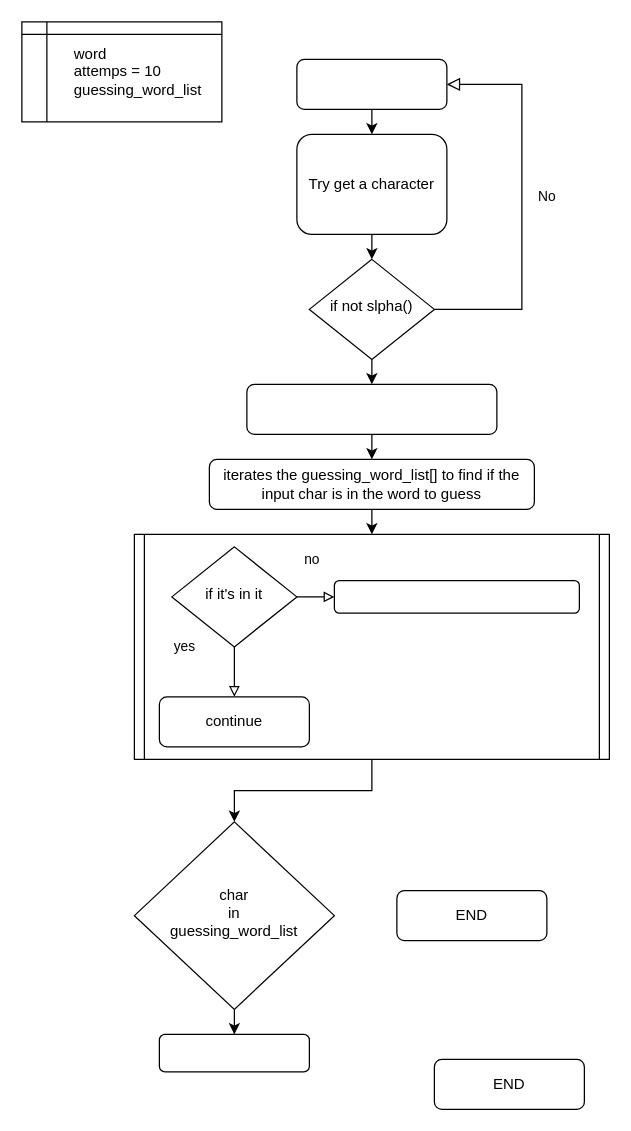
Some shapes in this 631 by 1131 pixel diagram are drawn without their labels. Each missing label, with the centre of its shape:
"attemps -= 1" goes at [233,1052].
"guessing_word_list = [] append each position of the word" goes at [371,408].
"guessing_word_list[index] = '_'" goes at [456,596].
"START" goes at [371,83].
